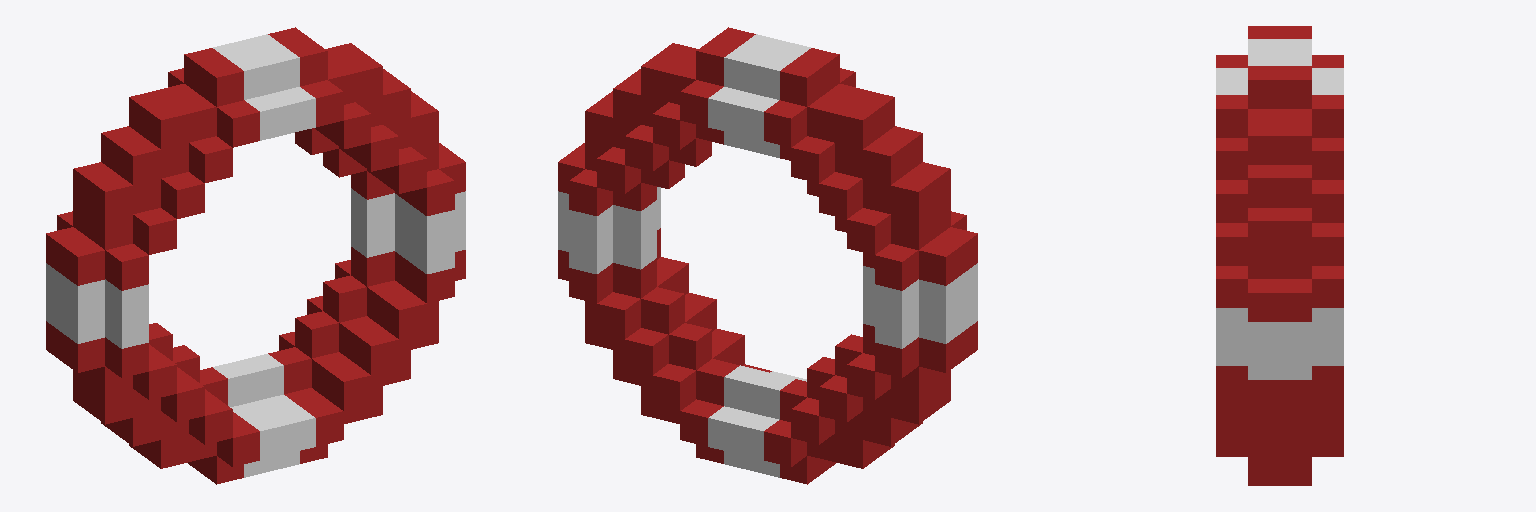
3 views of the same model, side by side, from view 1: azimuth 30°, elevation 25°; view 2: azimuth 150°, elevation 25°; view 3: azimuth 270°, elevation 25° (orthographic).
Parts seen in each view (by area): view 1: object 1; view 2: object 1; view 3: object 1.
Boxes of the visible parts, x1,y1,x2,y2 form: object 1: [46, 27, 465, 484]; object 1: [558, 27, 977, 484]; object 1: [1216, 26, 1343, 485].
Bounding box in the file's own units: 1.4 × 1.4 × 0.4.
Materials: 1 (1 with a texture image).